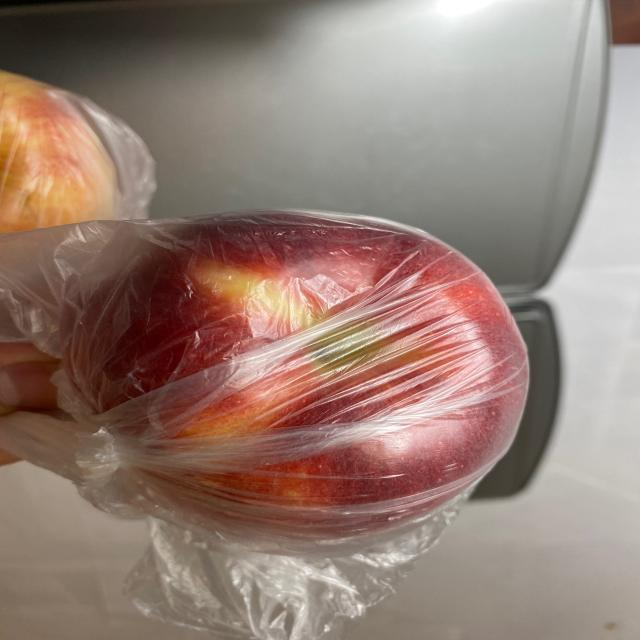apple: (0, 68, 529, 580)
